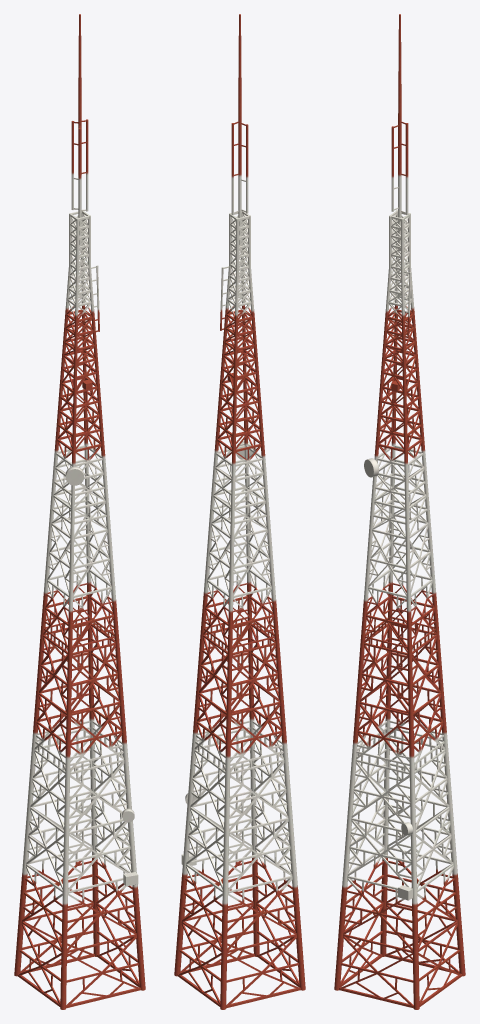
File: Antenna.obj
3 renders of one model, left to right at view 1: azimuth 30°, elevation 25°; view 2: azimuth 210°, elevation 25°; view 3: azimuth 330°, elevation 25°, orthographic.
Parts seen in each view (by area): view 1: Cylinder02; view 2: Cylinder02; view 3: Cylinder02.
Boxes of the visible parts, x1=… form: Cylinder02: x1=14, y1=14, x2=145, y2=1009; Cylinder02: x1=174, y1=14, x2=305, y2=1009; Cylinder02: x1=334, y1=14, x2=465, y2=1009.
Bounding box in the file's own units: 4.08 × 44.5 × 4.12.
1 material, 1 textured.
